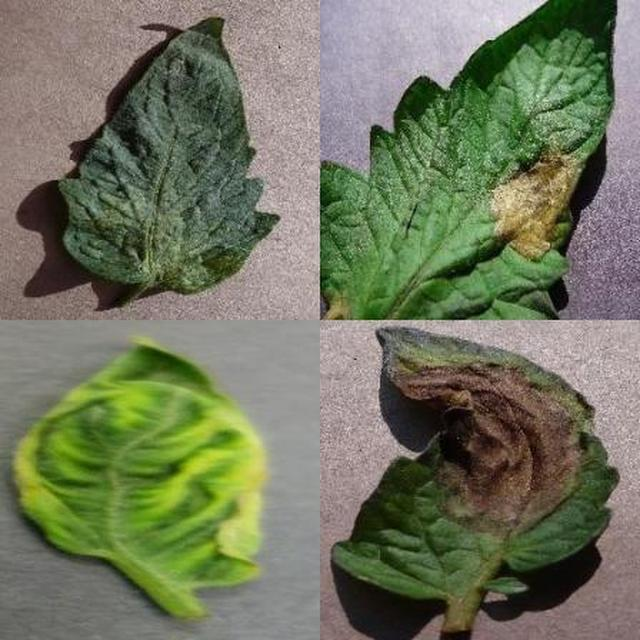Spider Mites Leaf: (202, 223, 640, 640)
